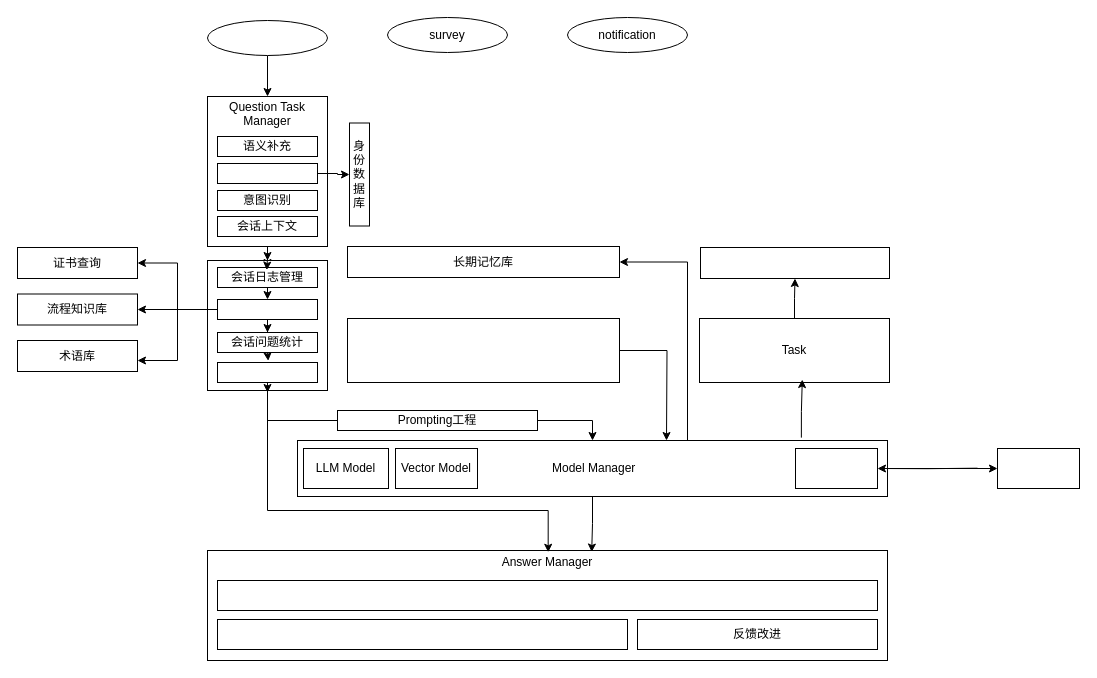
This 1097x678 diagram has some shape labels left out. Here are the shapes that lost their labels. From the top down, the centre of each, then its label:
At (x=267, y=38): "question".
At (x=267, y=173): "身份识别".
At (x=795, y=262): "短期记忆库(会话级)".
At (x=267, y=309): "关键词查询".
At (x=483, y=350): "Scheduled Action".
At (x=267, y=372): "有效性反馈".
At (x=836, y=468): "Action Model".
At (x=1038, y=468): "Action".
At (x=547, y=595): "无效问题屏蔽与错误处理".
At (x=422, y=634): "输出优化".
